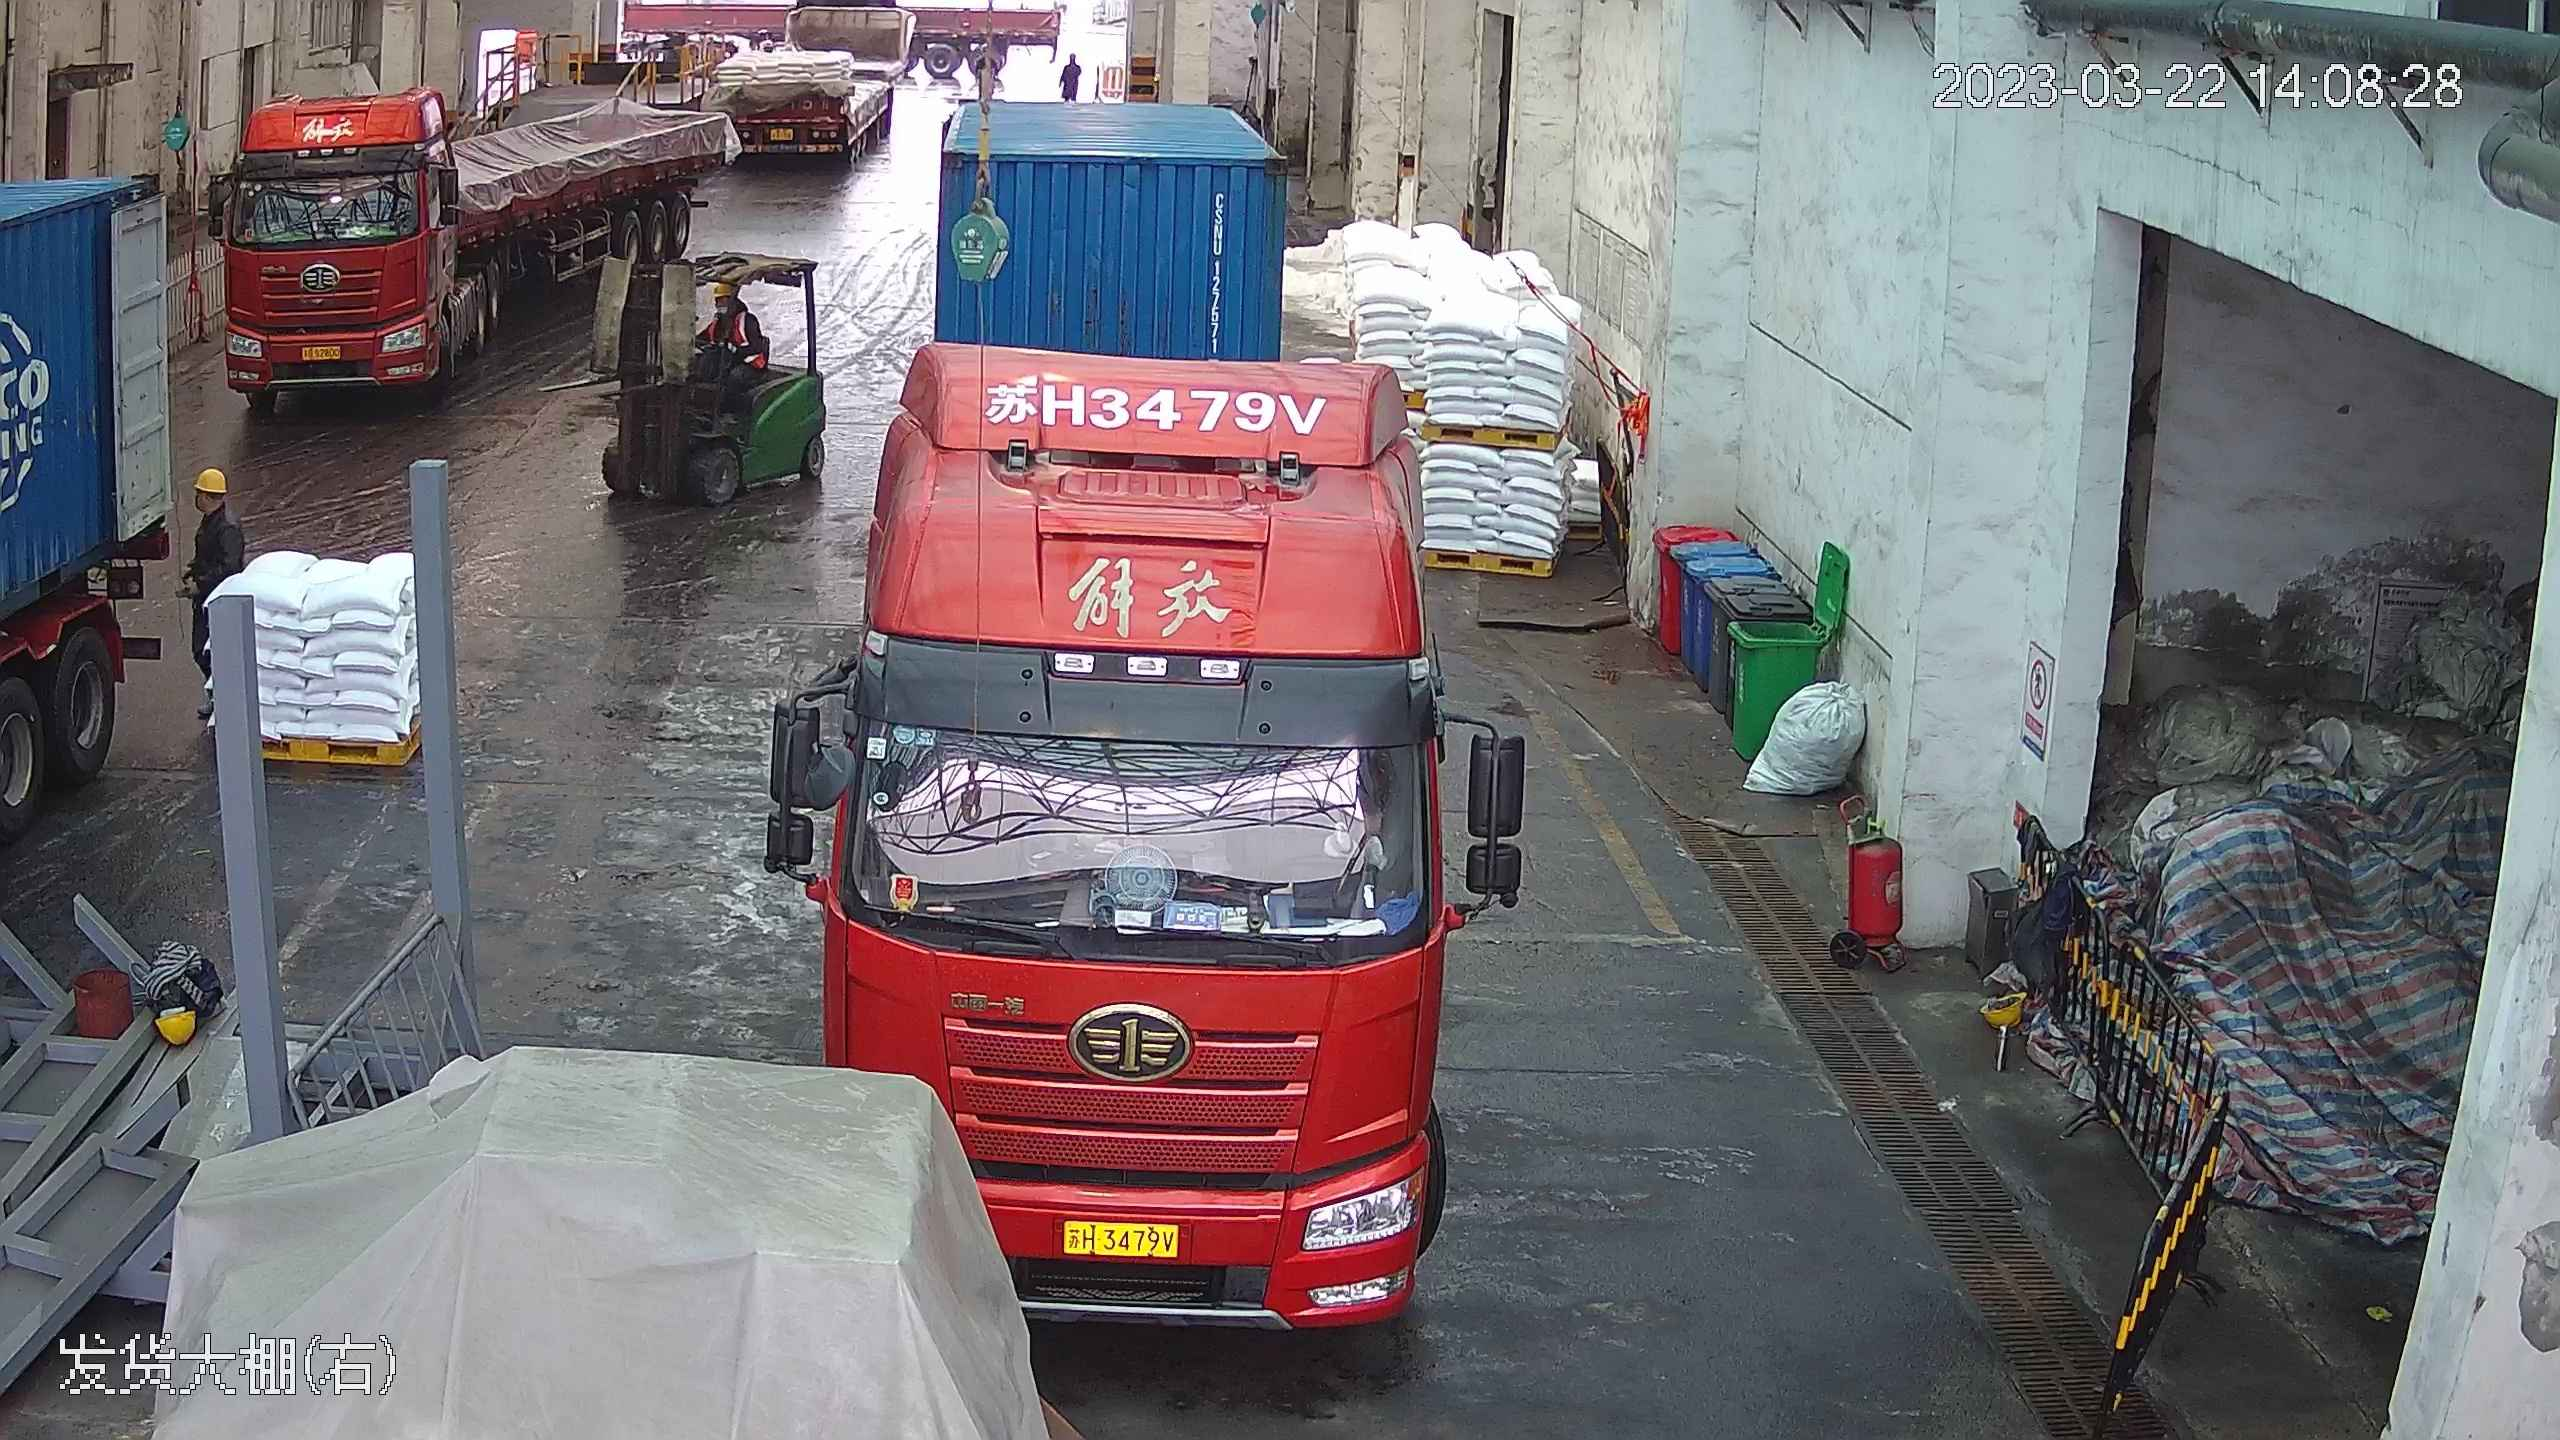head: (188, 465, 241, 540), (708, 274, 753, 329)
helmet: (193, 464, 228, 491), (715, 273, 741, 295)
people: (178, 465, 250, 690), (1058, 48, 1085, 99)
truck: (818, 41, 1470, 1311), (194, 66, 637, 399), (1, 96, 168, 976), (714, 6, 907, 169)
